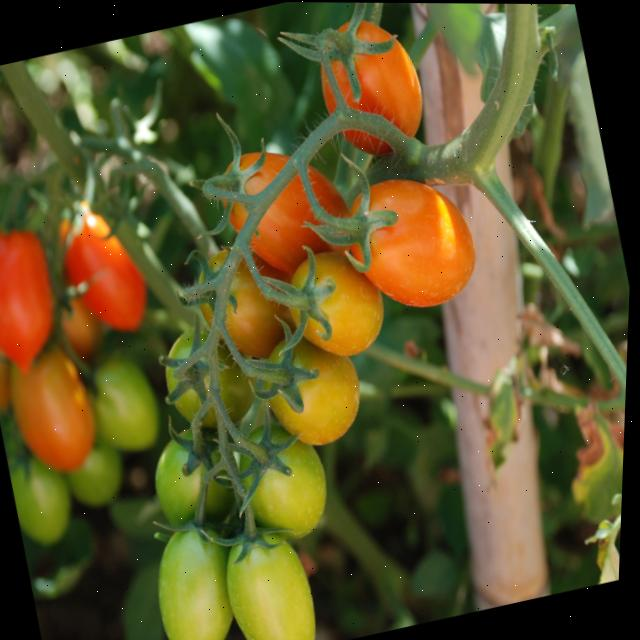fine: (278, 234, 399, 363), (187, 241, 293, 368)
overripe: (324, 168, 496, 329), (296, 2, 444, 175), (205, 126, 357, 289), (46, 188, 164, 343), (0, 334, 111, 482), (251, 330, 377, 455), (0, 211, 75, 373)
unripe: (222, 413, 346, 553), (210, 515, 334, 640), (136, 412, 248, 541), (144, 510, 255, 640), (153, 327, 254, 443), (4, 434, 85, 552), (85, 353, 169, 452)
